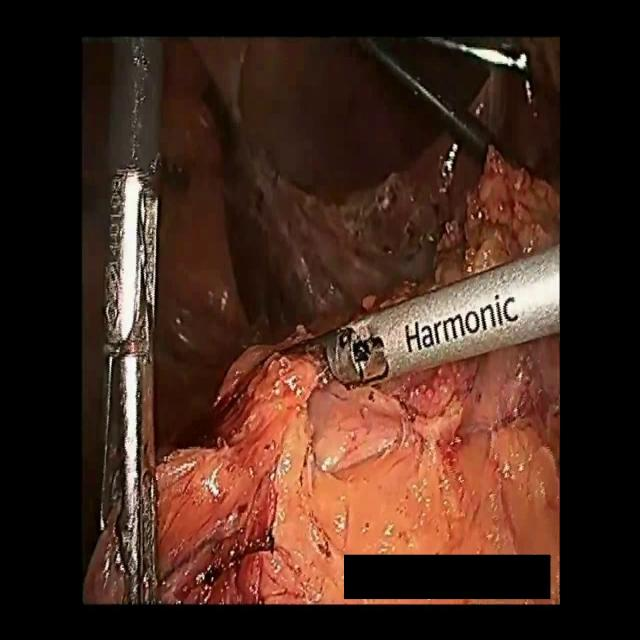surgical-area: (157, 32, 560, 603)
surgical-tool: (284, 235, 564, 396), (96, 32, 162, 606)
